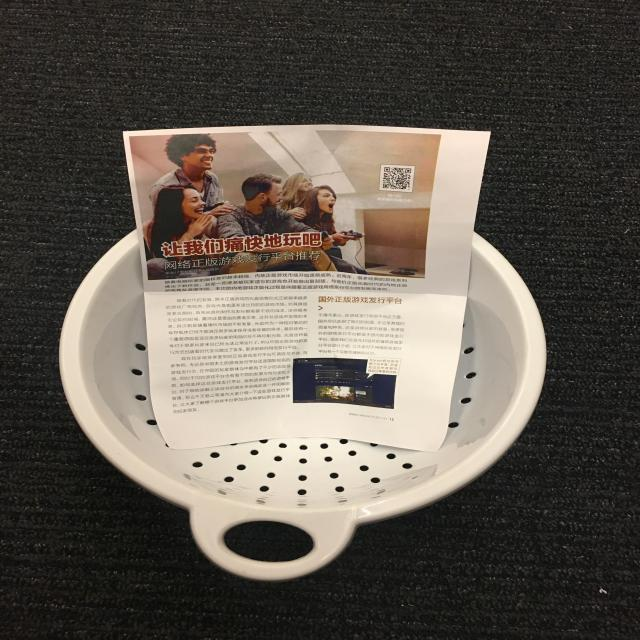document: (125, 125, 490, 451)
